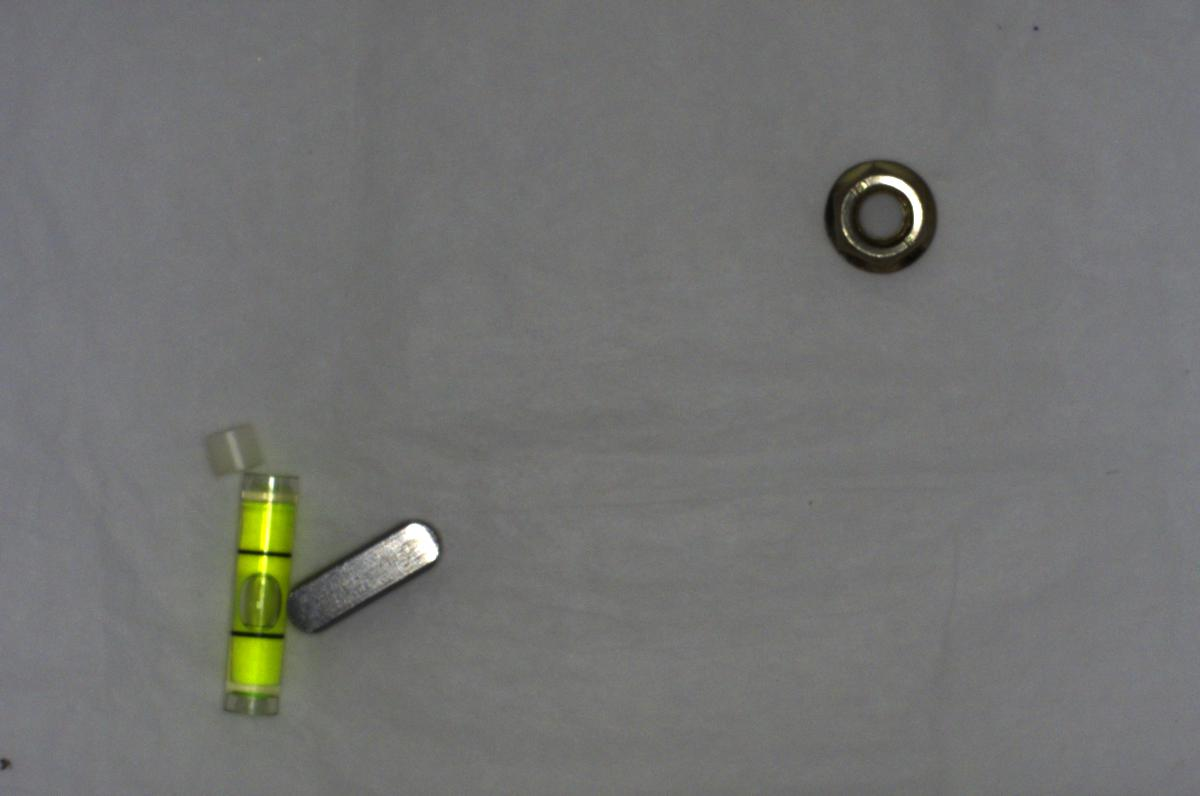Flange nut: (812, 153, 948, 282)
Horizontal bubble: (205, 467, 300, 718)
Keybar: (280, 515, 453, 641)
Plastic cushion pillar: (194, 420, 271, 488)
